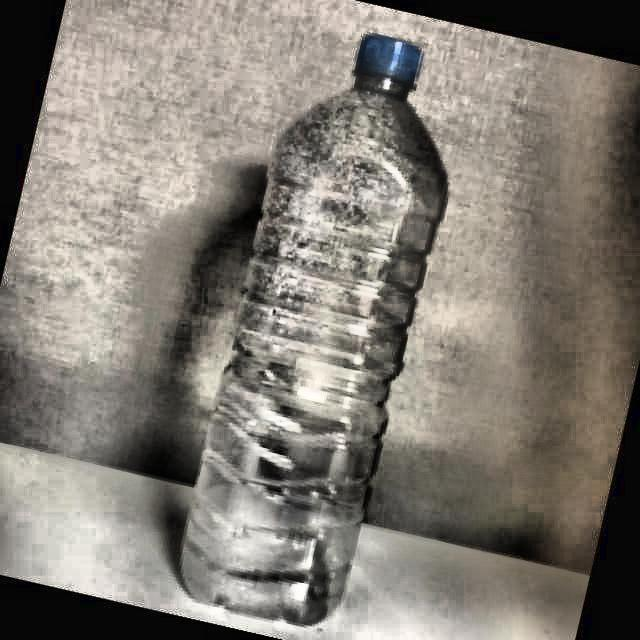plastic bottle: (180, 34, 448, 626)
